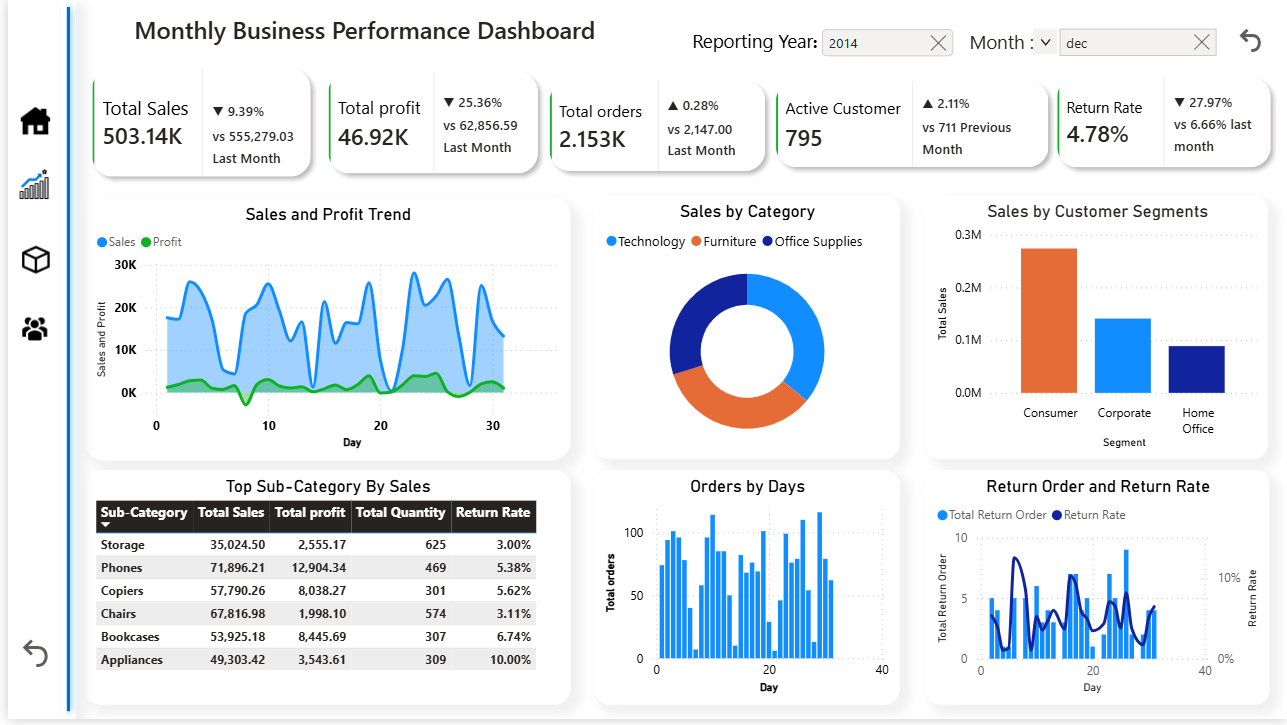

What the dashboard file says about the page in this screenshot:
{"tool":"powerbi","page":{"name":"Executive Dashboard","canvas":[1280,720],"ordinal":0},"visuals":[{"type":"cardVisual","fields":{"Data":["orders.Total Sales"]},"box":[67.6,51.9,252.1,142.4],"z":0},{"type":"cardVisual","fields":{"Data":["orders.Total profit"]},"box":[304,56.7,243.7,135.1],"z":1000},{"type":"cardVisual","fields":{"Data":["orders.Total orders"]},"box":[524.8,65.1,249.7,124.3],"z":2000},{"type":"cardVisual","fields":{"Data":["orders.Total Customer"]},"box":[751.6,65.1,306.4,120.6],"z":3000},{"type":"cardVisual","fields":{"Data":["customer.Return Rate"]},"box":[1032.7,61.5,247.3,124.3],"z":4000},{"type":"lineChart","title":"Sales and  Profit Trend ","fields":{"Category":["date.Date.Variation.Date Hierarchy.Day"],"Y":["orders.Total Sales","orders.Total profit"]},"box":[76,197.9,486.2,264.2],"z":5000},{"type":"textSlicer","fields":{"Values":["date.Month Name"]},"box":[1012.5,22.5,215,48.8],"z":6000},{"type":"textSlicer","fields":{"Values":["date.year"]},"box":[801.1,21.7,162.9,48.3],"z":7000},{"type":"textbox","box":[675.6,24.1,143.6,43.4],"z":8000},{"type":"donutChart","title":" Sales by Category","fields":{"Category":["orders.Category"],"Y":["orders.Total Sales"]},"box":[586.3,196.6,305.2,264.2],"z":9000},{"type":"columnChart","title":"Sales by Customer Segments","fields":{"Category":["customer.Segment"],"Y":["orders.Total Sales"]},"box":[916.9,196.6,342.6,264.2],"z":10000},{"type":"tableEx","title":"Top Sub-Category By Sales","fields":{"Values":["orders.Sub-Category","orders.Total Sales","orders.Total profit","orders.Total Quantity","customer.Return Rate"]},"box":[76,471.7,486.2,234],"z":11000},{"type":"clusteredColumnChart","title":"Orders by Days","fields":{"Category":["date.Date.Variation.Date Hierarchy.Day"],"Y":["orders.Total orders"]},"box":[586.3,471.7,305.2,234],"z":12000},{"type":"lineStackedColumnComboChart","title":"Return Order and Return Rate","fields":{"Category":["date.Date.Variation.Date Hierarchy.Day"],"Y2":["customer.Return Rate"],"Y":["orders.Total Return Order"]},"box":[916.9,471.7,343.8,234],"z":13000},{"type":"textbox","box":[120.6,9.7,529.6,42.2],"z":14000},{"type":"textbox","box":[950.7,25.3,82,53.1],"z":15000},{"type":"bookmarkNavigator","box":[120.6,0,479,49.5],"z":16000},{"type":"shape","box":[65.1,185.8,100.1,314.9],"z":17000},{"type":"actionButton","box":[8.4,95.3,37.4,54.3],"z":18000},{"type":"shape","box":[51.9,0,15.7,720.2],"z":19000},{"type":"actionButton","box":[6,161.7,39.8,48.3],"z":20000},{"type":"actionButton","box":[4.8,234,45.8,53.1],"z":21000},{"type":"actionButton","box":[6,308.8,51.9,41],"z":22000},{"type":"actionButton","box":[8.8,633.8,37.5,40],"z":23000},{"type":"actionButton","box":[1226.2,25,33.8,32.5],"z":24000}]}

Visuals, with their boxes on the page's 1280x720 design canvas (x1, y1, x2, y2). These are canvas units, not pixel positions in the 1287x725 screenshot, which may show the page scaled, cropped or inside an application window:
cardVisual - orders.Total Sales: <region>68, 52, 320, 194</region>
cardVisual - orders.Total profit: <region>304, 57, 548, 192</region>
cardVisual - orders.Total orders: <region>525, 65, 774, 189</region>
cardVisual - orders.Total Customer: <region>752, 65, 1058, 186</region>
cardVisual - customer.Return Rate: <region>1033, 62, 1280, 186</region>
"Sales and  Profit Trend " lineChart: <region>76, 198, 562, 462</region>
textSlicer - date.Month Name: <region>1012, 22, 1228, 71</region>
textSlicer - date.year: <region>801, 22, 964, 70</region>
textbox: <region>676, 24, 819, 68</region>
" Sales by Category" donutChart: <region>586, 197, 892, 461</region>
"Sales by Customer Segments" columnChart: <region>917, 197, 1260, 461</region>
"Top Sub-Category By Sales" tableEx: <region>76, 472, 562, 706</region>
"Orders by Days" clusteredColumnChart: <region>586, 472, 892, 706</region>
"Return Order and Return Rate" lineStackedColumnComboChart: <region>917, 472, 1261, 706</region>
textbox: <region>121, 10, 650, 52</region>
textbox: <region>951, 25, 1033, 78</region>
bookmarkNavigator: <region>121, 0, 600, 50</region>
shape: <region>65, 186, 165, 501</region>
actionButton: <region>8, 95, 46, 150</region>
shape: <region>52, 0, 68, 720</region>
actionButton: <region>6, 162, 46, 210</region>
actionButton: <region>5, 234, 51, 287</region>
actionButton: <region>6, 309, 58, 350</region>
actionButton: <region>9, 634, 46, 674</region>
actionButton: <region>1226, 25, 1260, 58</region>
